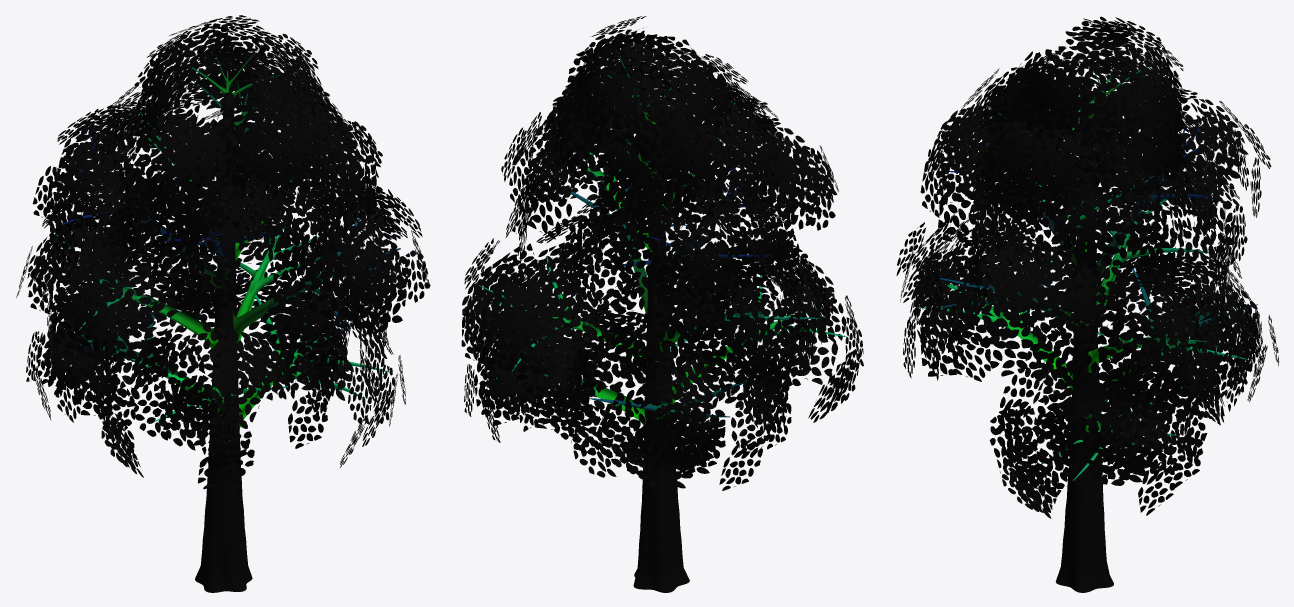
The model's file is Tree#3.fbx.
The picture shows the model from 3 angles, left to right: view 1: azimuth 30°, elevation 25°; view 2: azimuth 150°, elevation 25°; view 3: azimuth 270°, elevation 25°; orthographic projection.
Parts seen in each view (by area): view 1: Tree_1, Tree_0; view 2: Tree_1, Tree_0; view 3: Tree_1, Tree_0.
Part boxes in pixels (x1,y1,x2,y2): Tree_1: (16,15,430,489); Tree_0: (54,46,400,592); Tree_1: (461,16,863,490); Tree_0: (476,50,847,592); Tree_1: (896,16,1279,518); Tree_0: (919,63,1257,592).
Bounding box in the file's own units: 798 × 1225 × 772.
